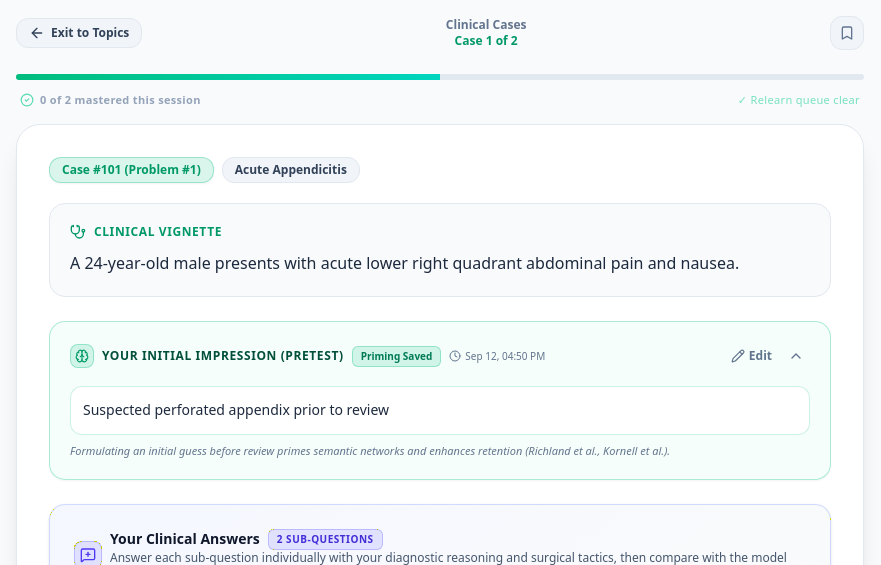
Test: CaseReviewCard Pretest and Elaboration UI › renders previously saved pretest and elaboration on case revisit with toggle/edit options
Check: the heading "Your Initial Impression (Pretest)" is shown, box [102,348,344,364]
Check: the text "Suspected perforated appendix prior to review" is shown, box [70,386,810,435]
// Verify toggle collapse works
Click the button titled "Collapse initial impression" at coordinates (796, 356), box [782,342,810,370]
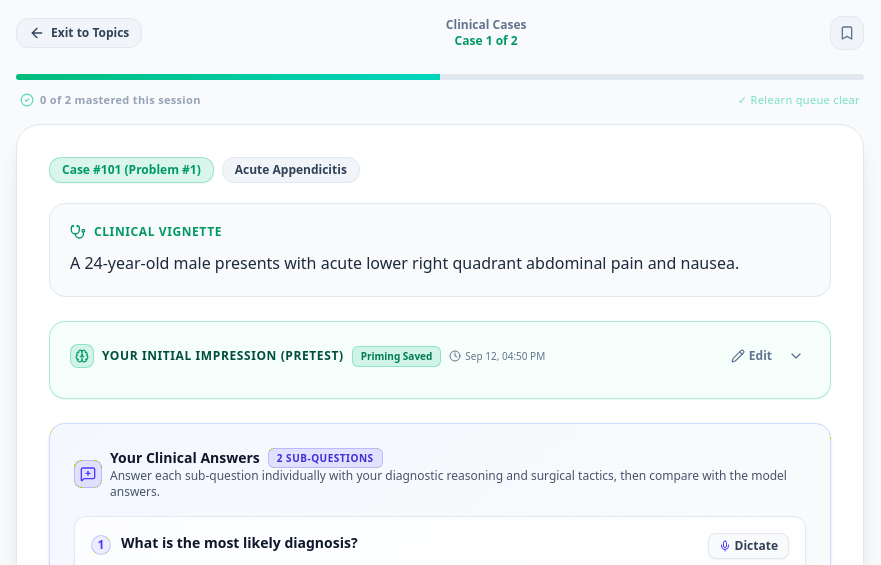
Check: the text "Suspected perforated appendix prior to review" is gone
